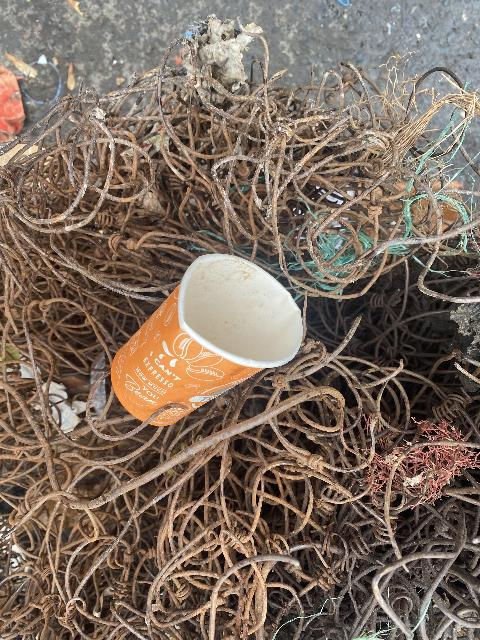Kagit: (105, 238, 330, 429)
